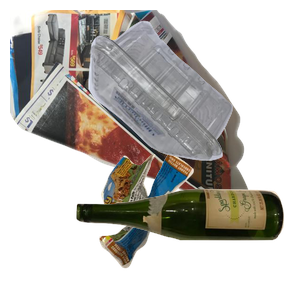glass: (74, 186, 300, 300)
paper: (10, 10, 250, 190)
plastic: (86, 18, 300, 171)
trash: (97, 151, 283, 300)
